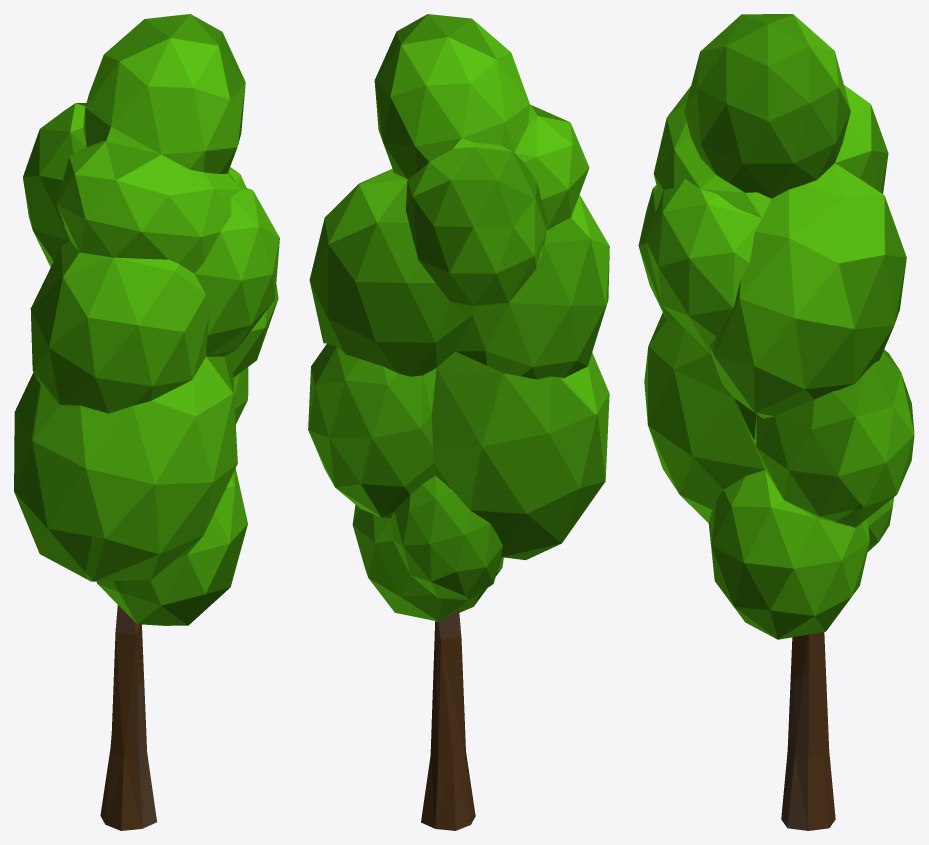
The model's file is tree7.glb.
3 renders of one model, left to right at view 1: azimuth 30°, elevation 25°; view 2: azimuth 150°, elevation 25°; view 3: azimuth 270°, elevation 25°, orthographic. The views are drawn at different scales.
Visible parts, largest first — view 1: _7_tree; view 2: _7_tree; view 3: _7_tree.
Boxes of the visible parts, x1,y1,x2,y2 form: _7_tree: [14, 14, 279, 830]; _7_tree: [308, 14, 609, 830]; _7_tree: [638, 14, 914, 830].
Bounding box in the file's own units: 0.9204 × 2.78 × 0.8524.
1 material, 1 textured.
